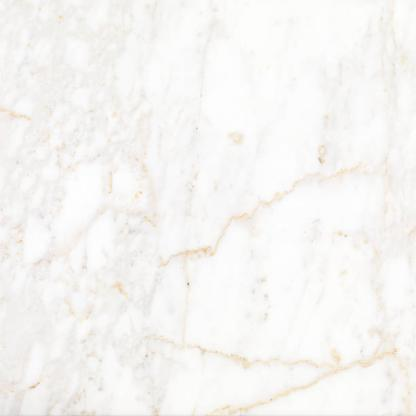Metamorphic_Marble: (7, 6, 415, 416)
